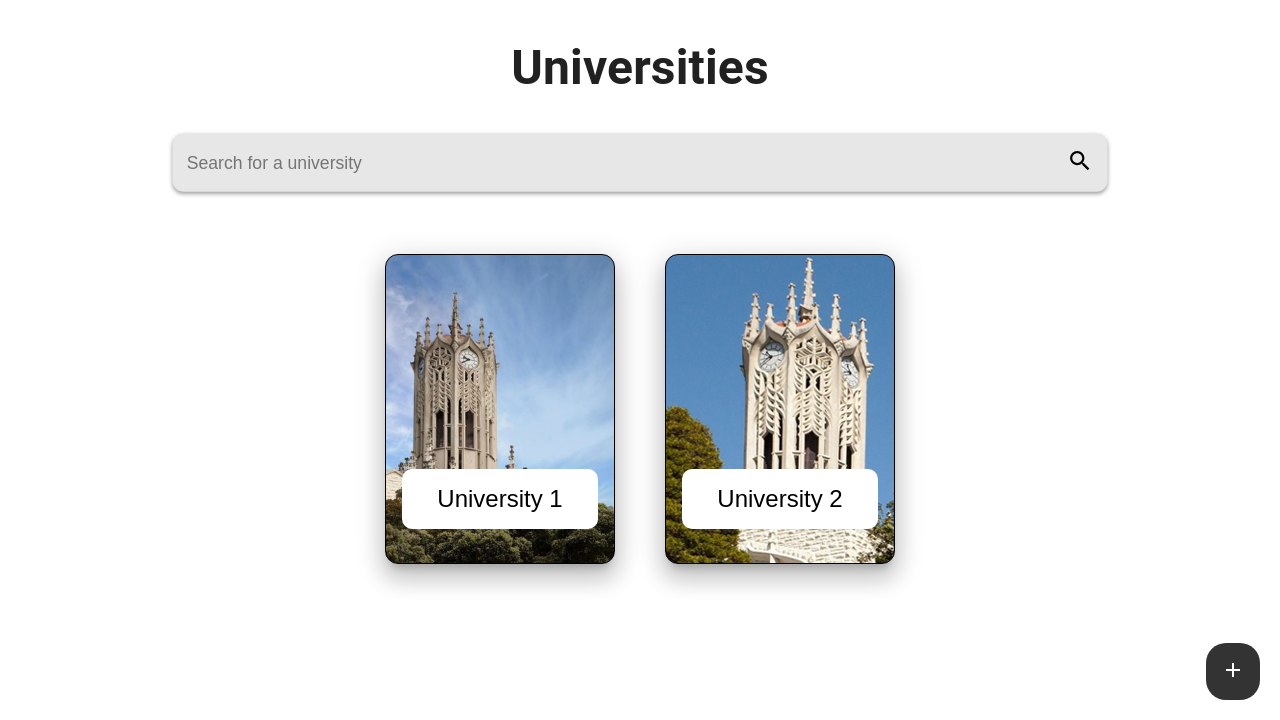
Test case: UniversitiesPage › filters universities based on search query
The width and height of the screenshot is (1280, 720).
Expected: the text "University 1" is shown, [402,469,598,529]
Type "University 1" into the field with placeholder "Search for a university" at (621,163), box [181,147,1061,178]
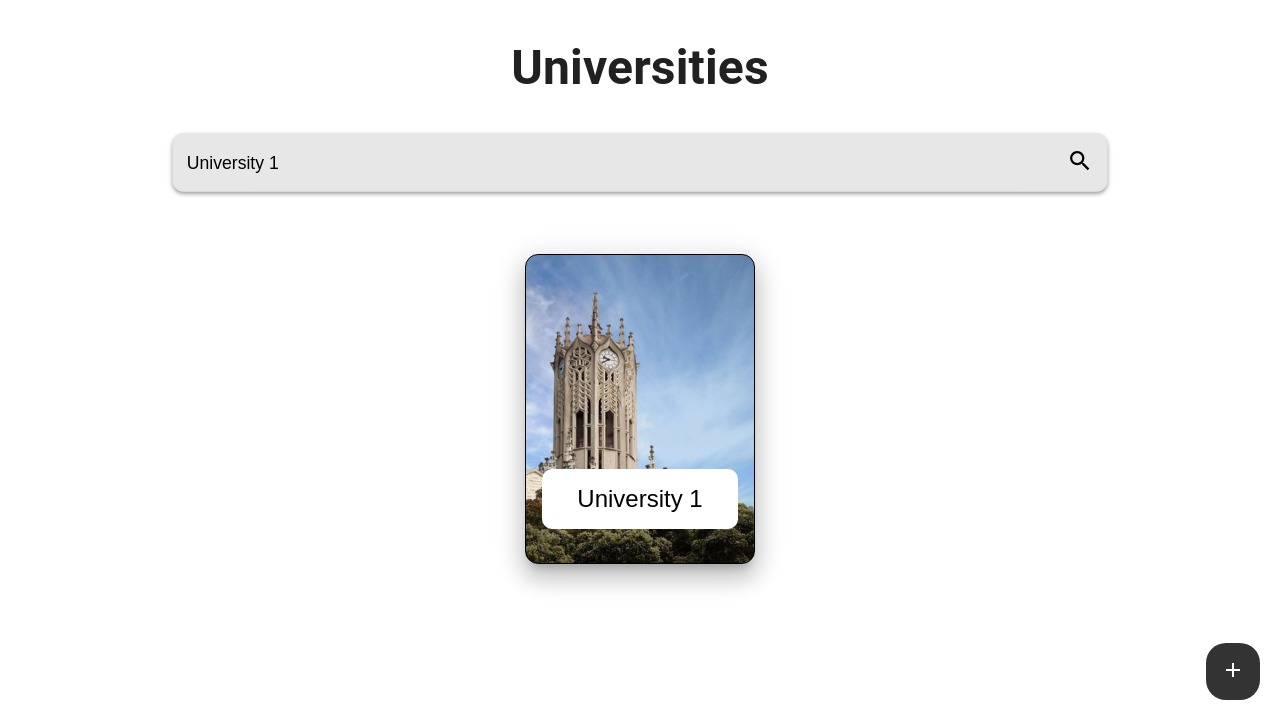
Expected: the text "University 1" is shown, [542,469,738,529]
Now the button "University 2" is gone
